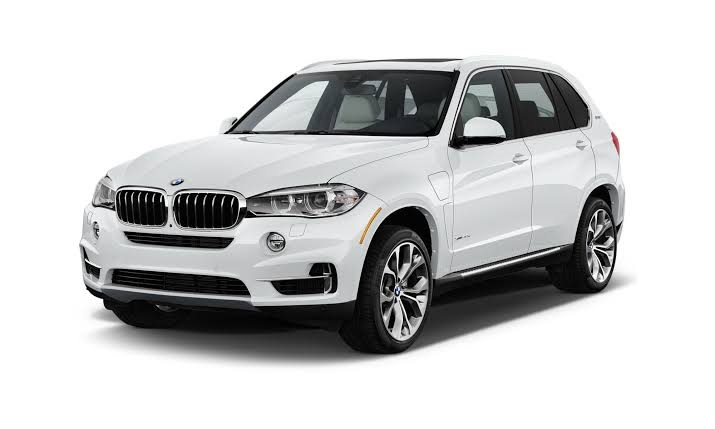bmw: (44, 43, 635, 357)
